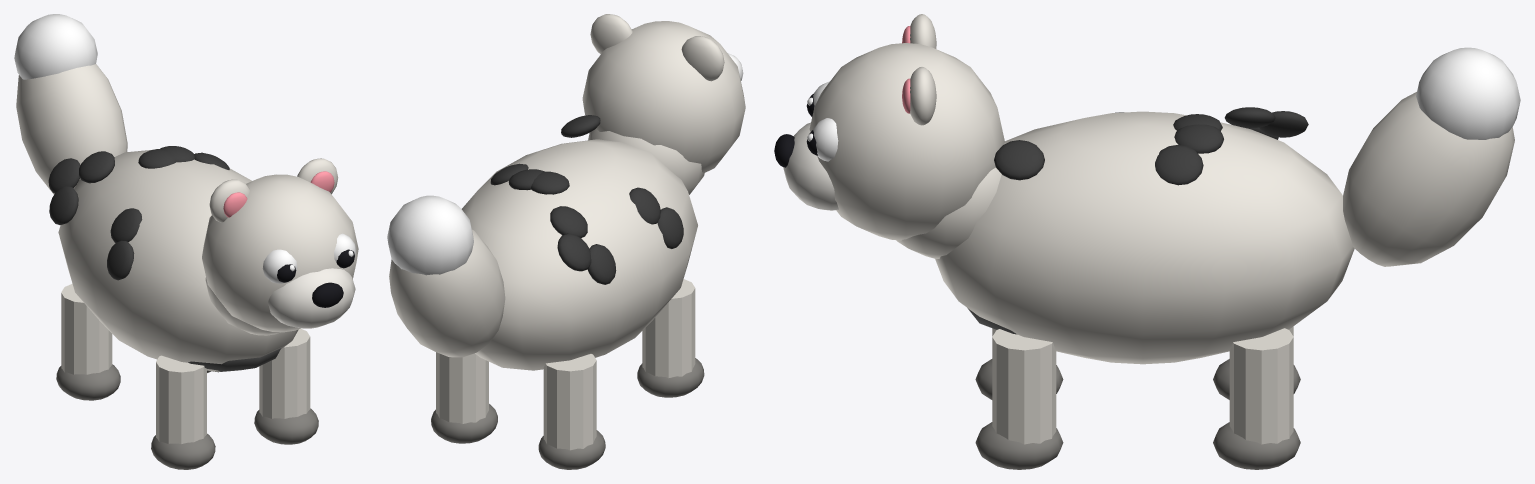
3 views of the same model, side by side, from view 1: azimuth 30°, elevation 25°; view 2: azimuth 150°, elevation 25°; view 3: azimuth 270°, elevation 25° (orthographic). The views are drawn at different scales.
Visible parts, largest first — view 1: Snow Leopard; view 2: Snow Leopard; view 3: Snow Leopard.
Boxes of the visible parts, x1,y1,x2,y2 form: Snow Leopard: [14, 14, 358, 469]; Snow Leopard: [387, 14, 745, 469]; Snow Leopard: [774, 14, 1520, 469].
Size of the model in its own units: 1.7 by 2.69 by 4.67.
1 material, 1 textured.
